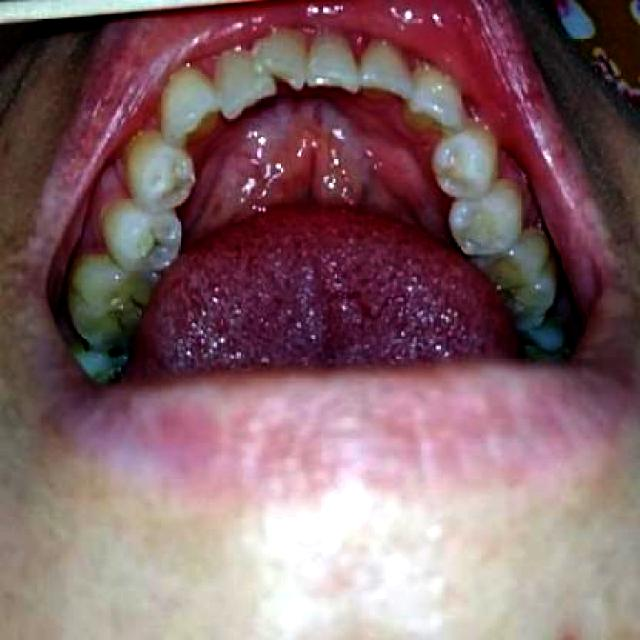Plaque: (100, 294, 147, 334), (141, 222, 171, 255), (500, 281, 536, 306), (103, 348, 125, 360)
